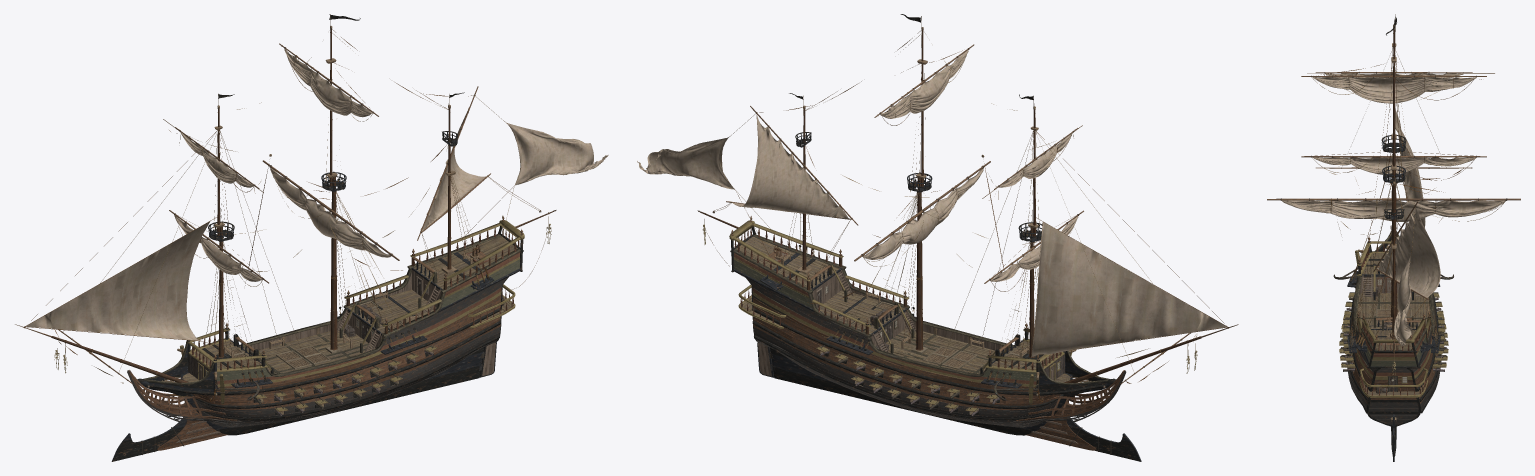
Rendered from ti_ship.glb.
3 renders of one model, left to right at view 1: azimuth 30°, elevation 25°; view 2: azimuth 150°, elevation 25°; view 3: azimuth 270°, elevation 25°, orthographic. The views are drawn at different scales.
Parts seen in each view (by area): view 1: KB3D_TIS_Ship_A_Hull, KB3D_TIS_Ship_A_SailF, KB3D_TIS_Ship_A_SailA, KB3D_TIS_Ship_A_MastC, KB3D_TIS_Ship_A_MastB, KB3D_TIS_Ship_A_ProwA, KB3D_TIS_Ship_A_SailD, KB3D_TIS_Ship_A_SailG, KB3D_TIS_Ship_A_SailE, KB3D_TIS_Ship_A_ProwB, KB3D_TIS_Ship_A_MastA, KB3D_TIS_Ship_A_SailB (+1 smaller); view 2: KB3D_TIS_Ship_A_Hull, KB3D_TIS_Ship_A_SailF, KB3D_TIS_Ship_A_SailG, KB3D_TIS_Ship_A_MastC, KB3D_TIS_Ship_A_SailA, KB3D_TIS_Ship_A_ProwA, KB3D_TIS_Ship_A_MastB, KB3D_TIS_Ship_A_SailD, KB3D_TIS_Ship_A_SailE, KB3D_TIS_Ship_A_ProwB, KB3D_TIS_Ship_A_MastA, KB3D_TIS_Ship_A_SailC (+1 smaller); view 3: KB3D_TIS_Ship_A_Hull, KB3D_TIS_Ship_A_SailD, KB3D_TIS_Ship_A_MastC, KB3D_TIS_Ship_A_SailG, KB3D_TIS_Ship_A_SailE, KB3D_TIS_Ship_A_SailB, KB3D_TIS_Ship_A_MastB, KB3D_TIS_Ship_A_MastA, KB3D_TIS_Ship_A_SailA, KB3D_TIS_Ship_A_SailF, KB3D_TIS_Ship_A_SailC.
Part boxes in pixels (x1,y1,x2,y2): KB3D_TIS_Ship_A_Hull: (15,210,556,435); KB3D_TIS_Ship_A_SailF: (25,217,218,346); KB3D_TIS_Ship_A_SailA: (460,96,608,247); KB3D_TIS_Ship_A_MastC: (262,14,421,350); KB3D_TIS_Ship_A_MastB: (163,93,268,384); KB3D_TIS_Ship_A_ProwA: (111,397,228,461); KB3D_TIS_Ship_A_SailD: (270,167,390,257); KB3D_TIS_Ship_A_SailG: (420,108,540,232); KB3D_TIS_Ship_A_SailE: (284,47,372,121); KB3D_TIS_Ship_A_ProwB: (127,370,237,423); KB3D_TIS_Ship_A_MastA: (417,86,490,286); KB3D_TIS_Ship_A_SailB: (174,215,262,286); KB3D_TIS_Ship_A_Hull: (697,210,1238,435); KB3D_TIS_Ship_A_SailF: (1031,217,1227,357); KB3D_TIS_Ship_A_SailG: (714,114,851,219); KB3D_TIS_Ship_A_MastC: (832,14,990,350); KB3D_TIS_Ship_A_SailA: (637,114,774,255); KB3D_TIS_Ship_A_ProwA: (1025,398,1141,461); KB3D_TIS_Ship_A_MastB: (982,94,1083,384); KB3D_TIS_Ship_A_SailD: (863,166,983,266); KB3D_TIS_Ship_A_SailE: (880,50,968,125); KB3D_TIS_Ship_A_ProwB: (1016,370,1126,423); KB3D_TIS_Ship_A_MastA: (750,93,858,272); KB3D_TIS_Ship_A_SailC: (998,131,1073,199); KB3D_TIS_Ship_A_Hull: (1316,133,1472,461); KB3D_TIS_Ship_A_SailD: (1281,198,1506,221); KB3D_TIS_Ship_A_MastC: (1267,17,1520,348); KB3D_TIS_Ship_A_SailG: (1376,207,1440,341); KB3D_TIS_Ship_A_SailE: (1312,76,1476,103); KB3D_TIS_Ship_A_SailB: (1312,156,1476,180); KB3D_TIS_Ship_A_MastB: (1301,14,1494,282); KB3D_TIS_Ship_A_MastA: (1356,172,1418,348); KB3D_TIS_Ship_A_SailA: (1375,207,1415,346); KB3D_TIS_Ship_A_SailF: (1395,108,1425,227); KB3D_TIS_Ship_A_SailC: (1325,72,1464,86).
Bounding box in the file's own units: 71.76 × 45.75 × 28.25.
22 materials, 22 textured.
